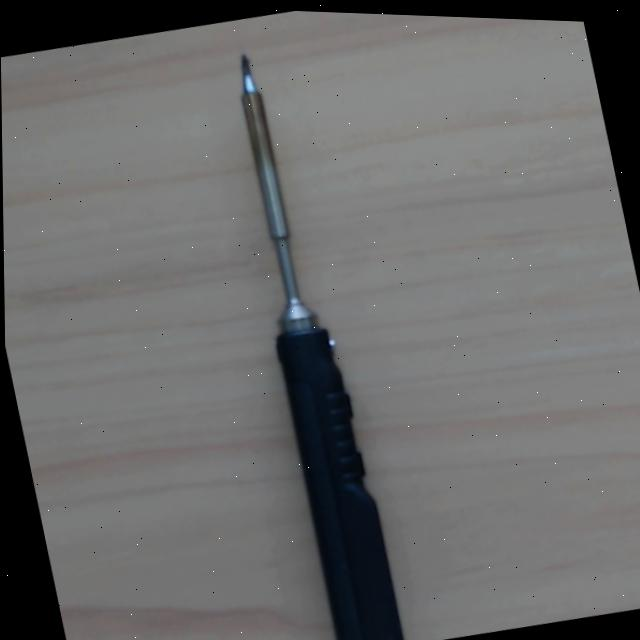Soldering-Iron: (218, 47, 403, 640)
